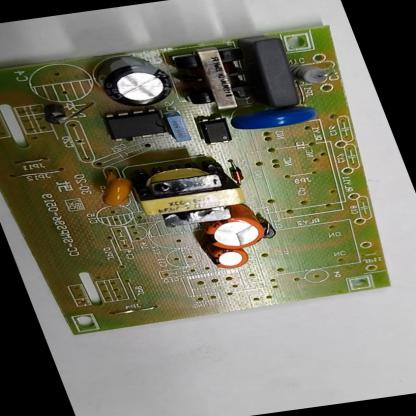Cap1: (203, 214, 269, 251)
Cap2: (203, 242, 253, 272)
Cap3: (96, 50, 178, 108)
MOSFET: (104, 109, 168, 142)
Mov: (230, 107, 323, 134)
Resistor: (292, 63, 332, 84)
Transformer: (128, 155, 251, 229), (170, 45, 259, 112)
